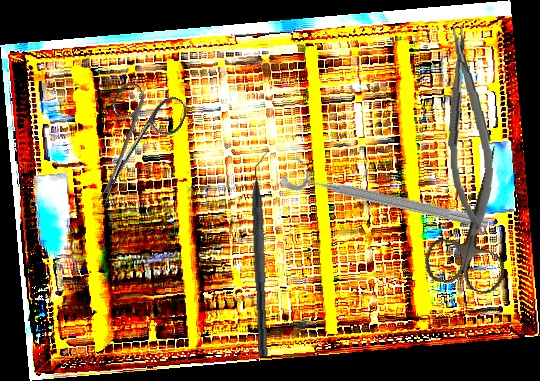Chopper: (247, 150, 282, 356)
Fixation Ring: (279, 153, 494, 235)
Iris Scissors: (419, 135, 536, 298), (70, 73, 192, 221)
Needle Holder: (442, 23, 497, 237)
